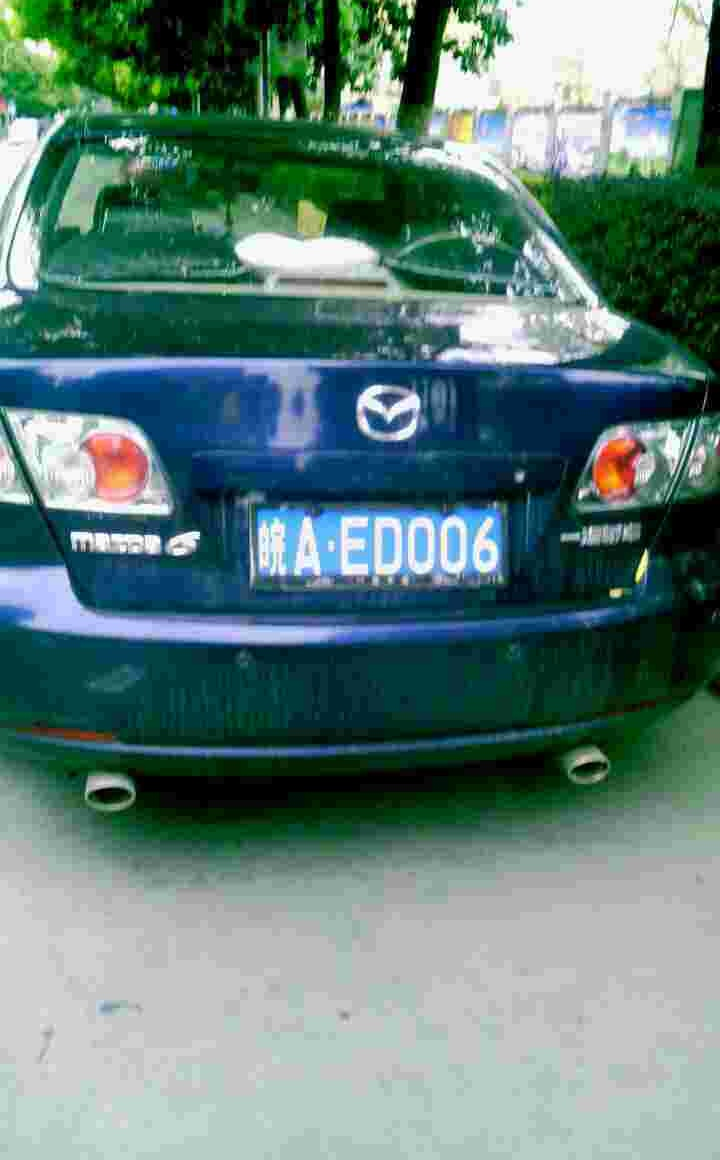licence plate: (243, 487, 520, 602)
